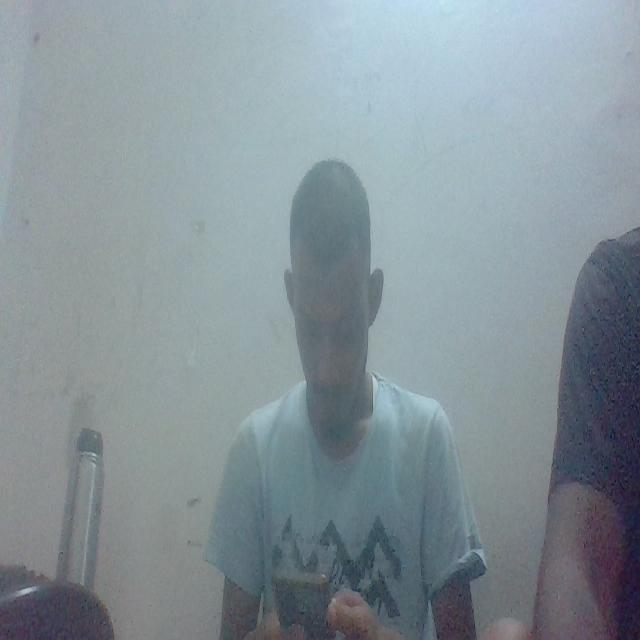Phone: (269, 564, 338, 640)
